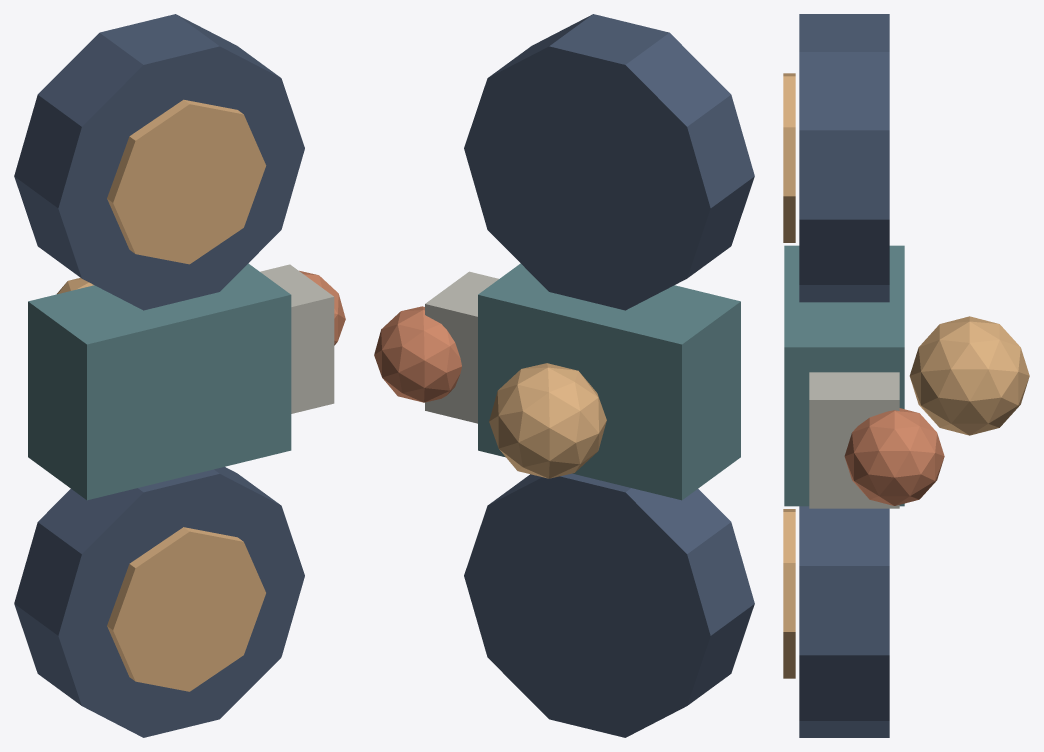
Rendered from scout.glb.
The picture shows the model from 3 angles, left to right: view 1: azimuth 30°, elevation 25°; view 2: azimuth 150°, elevation 25°; view 3: azimuth 270°, elevation 25°; orthographic projection.
Parts seen in each view (by area): view 1: body, duct_left, duct_right, rotor_left, rotor_right, nose, optic; view 2: duct_left, duct_right, body, scanner, optic, nose; view 3: duct_left, duct_right, body, scanner, nose, optic, rotor_left, rotor_right.
Boxes of the visible parts, x1,y1,x2,y2 form: body: [28, 263, 291, 500]; duct_left: [14, 14, 304, 310]; duct_right: [14, 467, 304, 737]; rotor_left: [107, 99, 266, 264]; rotor_right: [107, 527, 265, 691]; nose: [260, 264, 334, 413]; optic: [299, 270, 345, 345]; duct_left: [464, 14, 754, 310]; duct_right: [464, 473, 754, 737]; body: [478, 263, 740, 500]; scanner: [489, 363, 606, 478]; optic: [374, 306, 461, 402]; nose: [425, 271, 498, 423]; duct_left: [799, 14, 889, 302]; duct_right: [799, 506, 889, 737]; body: [784, 245, 904, 506]; scanner: [909, 316, 1029, 435]; nose: [809, 372, 899, 508]; optic: [844, 408, 944, 505]; rotor_left: [783, 73, 795, 242]; rotor_right: [783, 509, 795, 678].
Bounding box in the file's own units: 0.77 × 1.51 × 0.4925.
